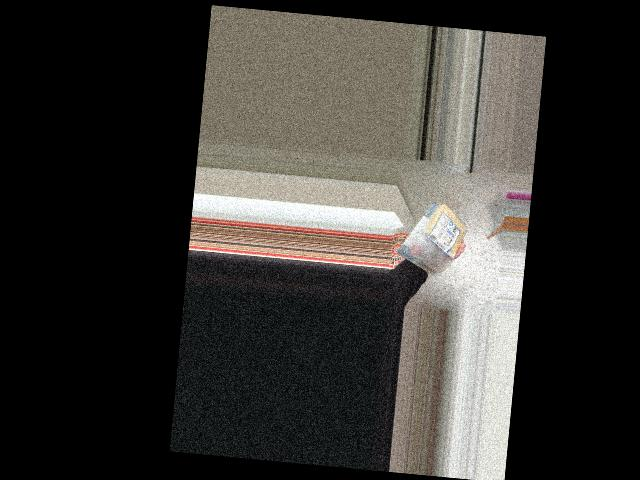cheese: (391, 195, 475, 281)
